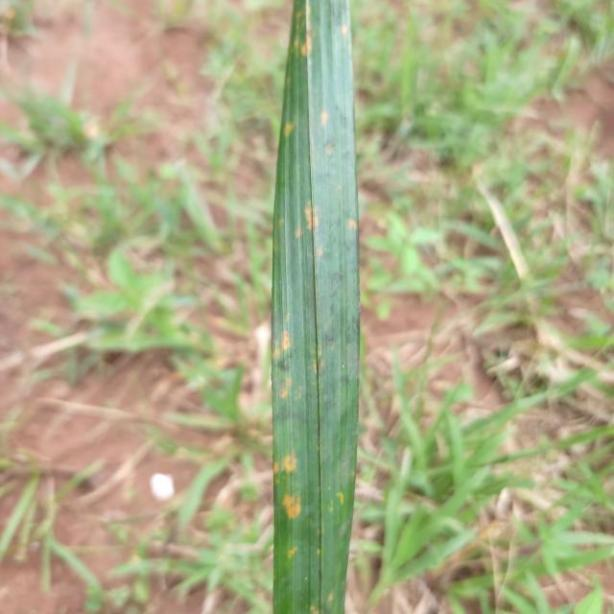Kalium: (270, 3, 364, 614)
